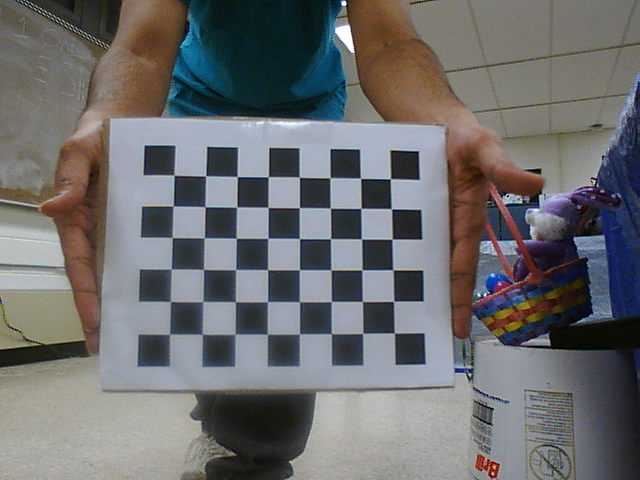bunny: (472, 183, 605, 341)
